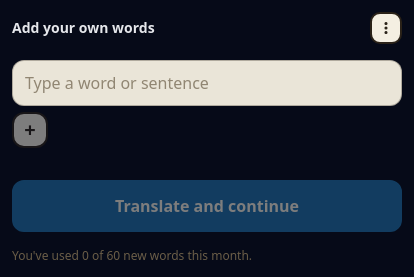
Scenario: SelectStep › keeps sharing a saved list in the heading menu, not beside the field
Expected: the text "Share & visibility" is not shown
Expected: the text "Add several at once" is not shown
Click the button named "More options".
click(386, 28)  # box [370,12,402,44]
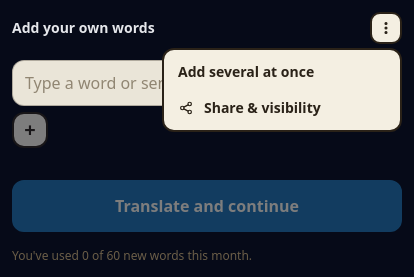
Expected: the menu item "Add several at once" is shown, [168,54,396,90]
Expected: the menu item "Share & visibility" is shown, [168,90,396,126]
